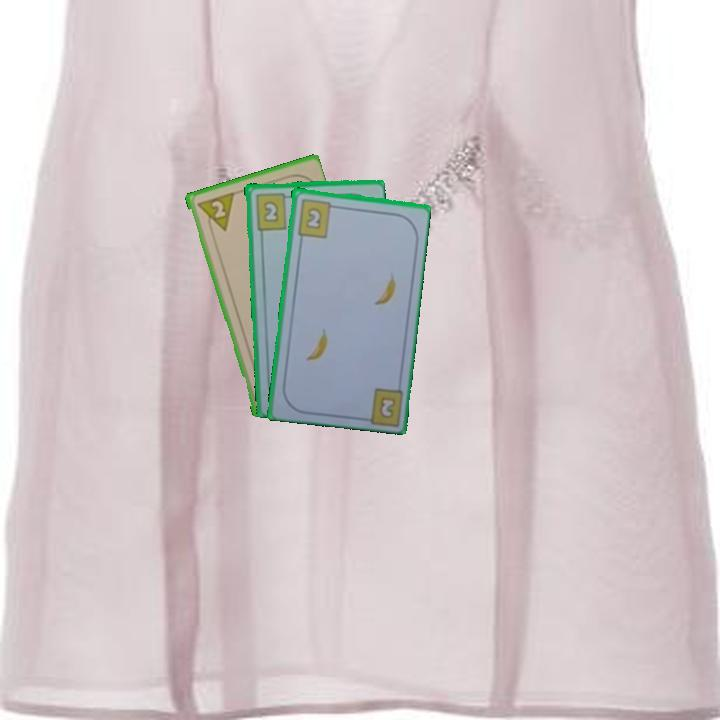2b: (294, 195, 339, 240), (252, 189, 294, 232), (377, 396, 396, 419)
2p: (207, 197, 228, 221)
